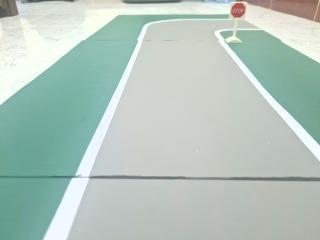stop: (228, 0, 251, 26)
